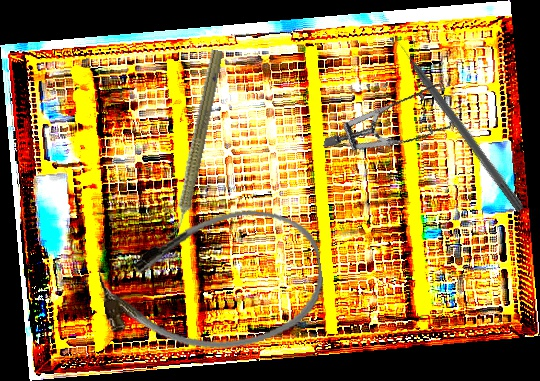Cannula: (92, 198, 332, 368)
Handpiece: (163, 47, 228, 244)
Pusher: (389, 31, 527, 213)
Speculum: (322, 52, 467, 181)
